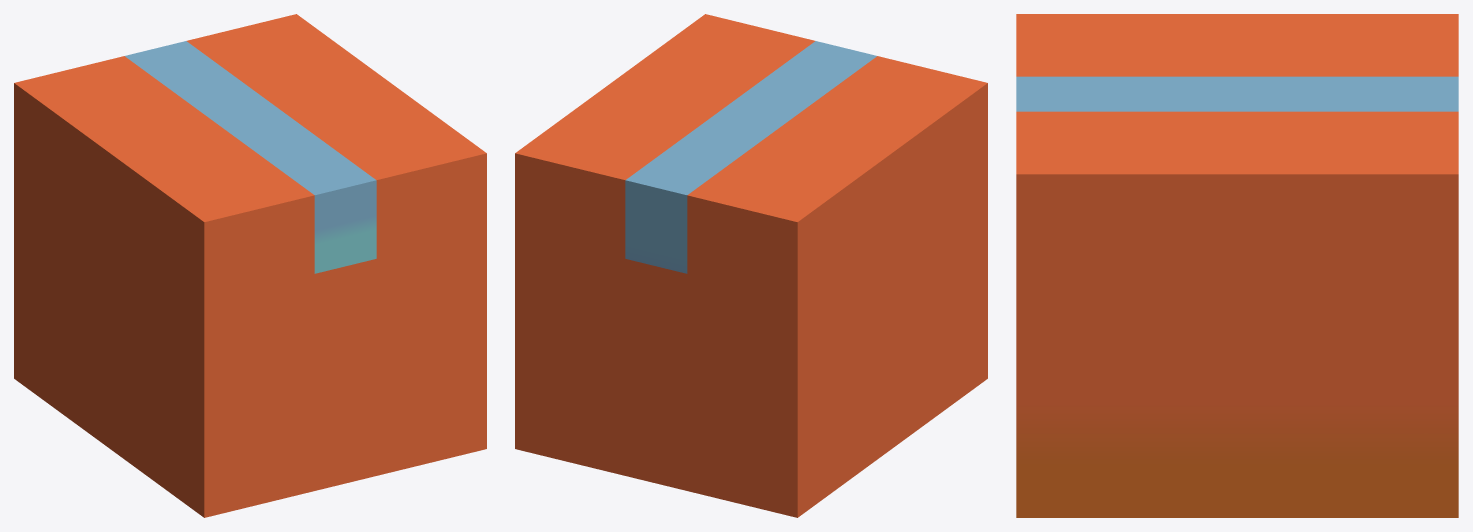
The model's file is Green_Box.fbx.
3 renders of one model, left to right at view 1: azimuth 30°, elevation 25°; view 2: azimuth 150°, elevation 25°; view 3: azimuth 270°, elevation 25°, orthographic. The views are drawn at different scales.
Visible parts, largest first — view 1: Green_Box; view 2: Green_Box; view 3: Green_Box.
Part boxes in pixels (bbox=[...]): Green_Box: bbox=[14, 14, 486, 517]; Green_Box: bbox=[515, 14, 987, 517]; Green_Box: bbox=[1016, 14, 1458, 517].
Size of the model in its own units: 30 by 30 by 35.
